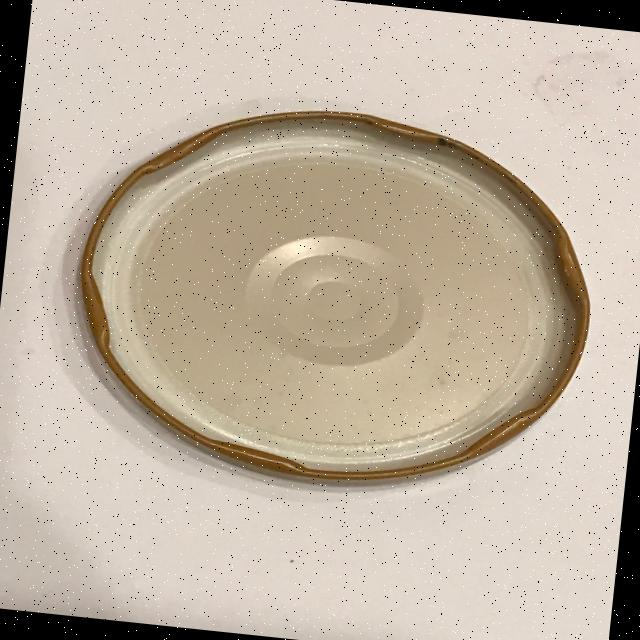metal: (58, 84, 610, 508)
